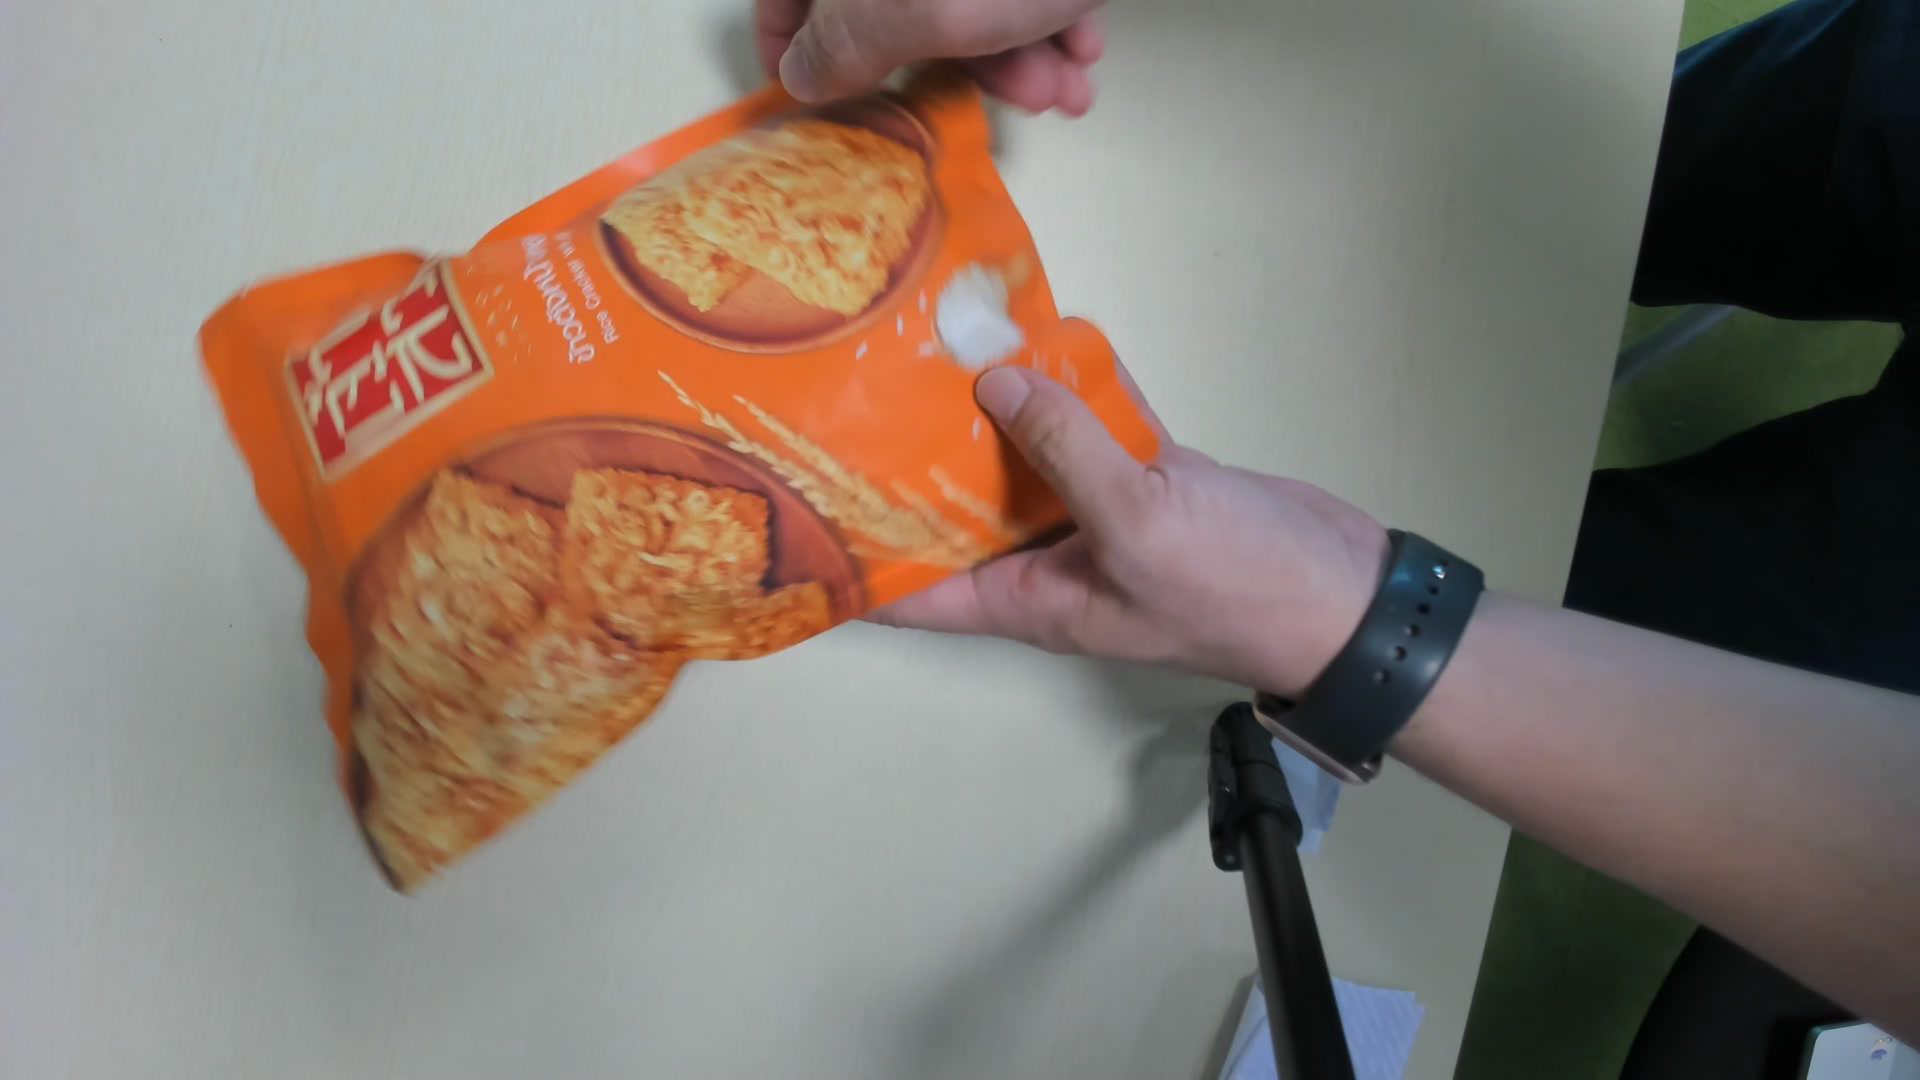PotatoChipsKeropok_0-99g_NonHalal_NonHealthy: (203, 61, 1162, 914)
